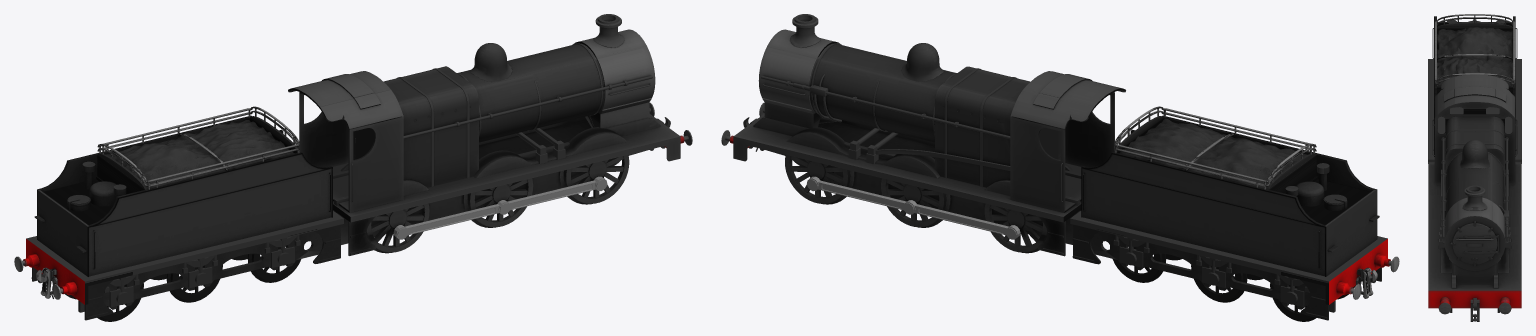
File: lms-fowler-4f.mobile.glb
3 renders of one model, left to right at view 1: azimuth 30°, elevation 25°; view 2: azimuth 150°, elevation 25°; view 3: azimuth 270°, elevation 25°, orthographic. The views are drawn at different scales.
Parts seen in each view (by area): view 1: Cube.001, lod_0_body.000, Cube.006, Cylinder.001, Cylinder.005, Cylinder.003, Cylinder.000, Cylinder.004; view 2: Cube.001, lod_0_body.000, Cube.006, Cylinder.001, Cylinder.005, Cylinder.003, Cylinder.000, Cylinder.004; view 3: Cube.001, lod_0_body.000.
Boxes of the visible parts, left/top/right/bottom form: Cube.001: left=288, top=14, right=692, bottom=255; lod_0_body.000: left=14, top=106, right=343, bottom=320; Cube.006: left=393, top=176, right=607, bottom=239; Cylinder.001: left=559, top=155, right=629, bottom=204; Cylinder.005: left=340, top=163, right=429, bottom=253; Cylinder.003: left=463, top=178, right=533, bottom=227; Cylinder.000: left=150, top=265, right=222, bottom=302; Cylinder.004: left=232, top=246, right=303, bottom=282; Cube.001: left=721, top=14, right=1125, bottom=256; lod_0_body.000: left=1070, top=106, right=1399, bottom=320; Cube.006: left=807, top=176, right=1020, bottom=239; Cylinder.001: left=785, top=155, right=855, bottom=204; Cylinder.005: left=984, top=163, right=1073, bottom=253; Cylinder.003: left=881, top=178, right=951, bottom=227; Cylinder.000: left=1191, top=265, right=1263, bottom=302; Cylinder.004: left=1110, top=245, right=1181, bottom=282; Cube.001: left=1428, top=74, right=1521, bottom=321; lod_0_body.000: left=1428, top=14, right=1521, bottom=163.
Bounding box in the file's own units: 16.14 × 4.14 × 2.6.
2 materials, 2 textured.
